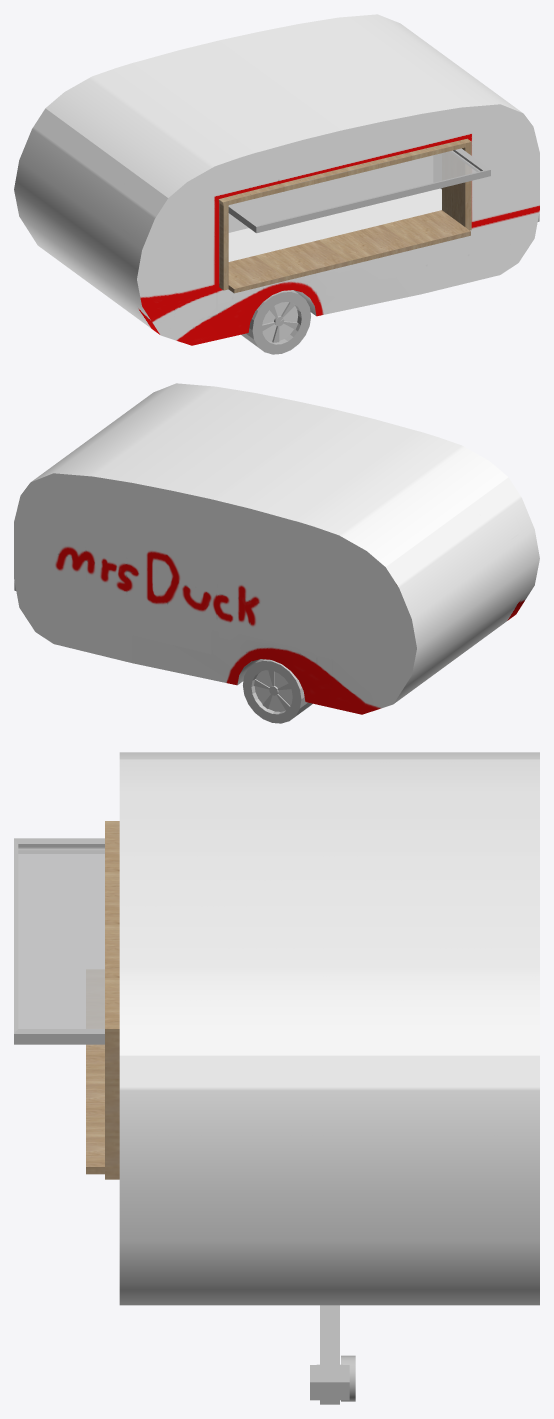
Rendered from creep tuck.fbx.
3 renders of one model, top to bottom at view 1: azimuth 30°, elevation 25°; view 2: azimuth 150°, elevation 25°; view 3: azimuth 270°, elevation 25°, orthographic. The views are drawn at different scales.
Visible parts, largest first — view 1: pCube1, pCube2, pasted__pasted__pCylinder1; view 2: pCube1, pasted__pasted__pCylinder1; view 3: pCube1, pCube2, pCube3.
Boxes of the visible parts, box(x1,y1,x2,y2) form: pCube1: box(14, 14, 539, 345); pCube2: box(228, 148, 490, 233); pasted__pasted__pCylinder1: box(241, 290, 310, 354); pCube1: box(14, 383, 539, 714); pasted__pasted__pCylinder1: box(243, 659, 312, 723); pCube1: box(86, 752, 539, 1305); pCube2: box(14, 838, 104, 1044); pCube3: box(310, 1305, 349, 1404).
Bounding box in the file's own units: 1071 × 483 × 622.
